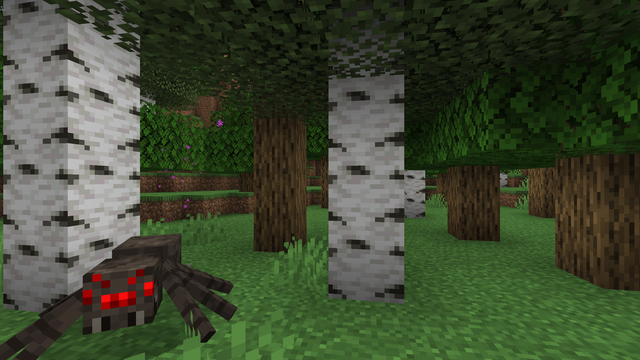araignees: (6, 229, 229, 357)
